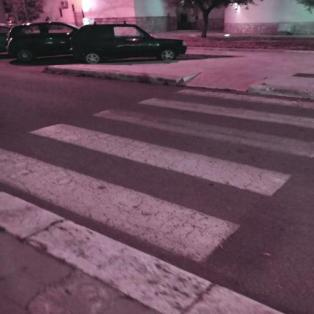Paso de Cebra: (1, 120, 312, 268)
